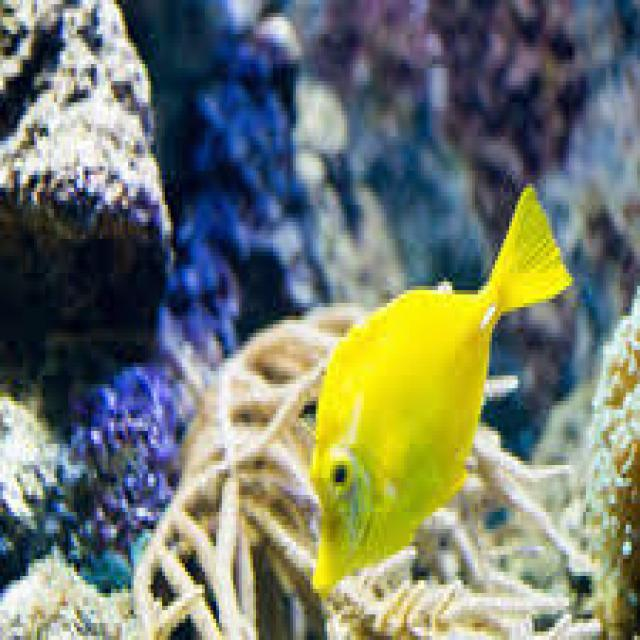YellowTang: (268, 174, 587, 627)
